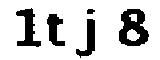1: (12, 5, 45, 49)
8: (118, 5, 150, 48)
j: (74, 5, 102, 60)
t: (46, 10, 71, 52)
